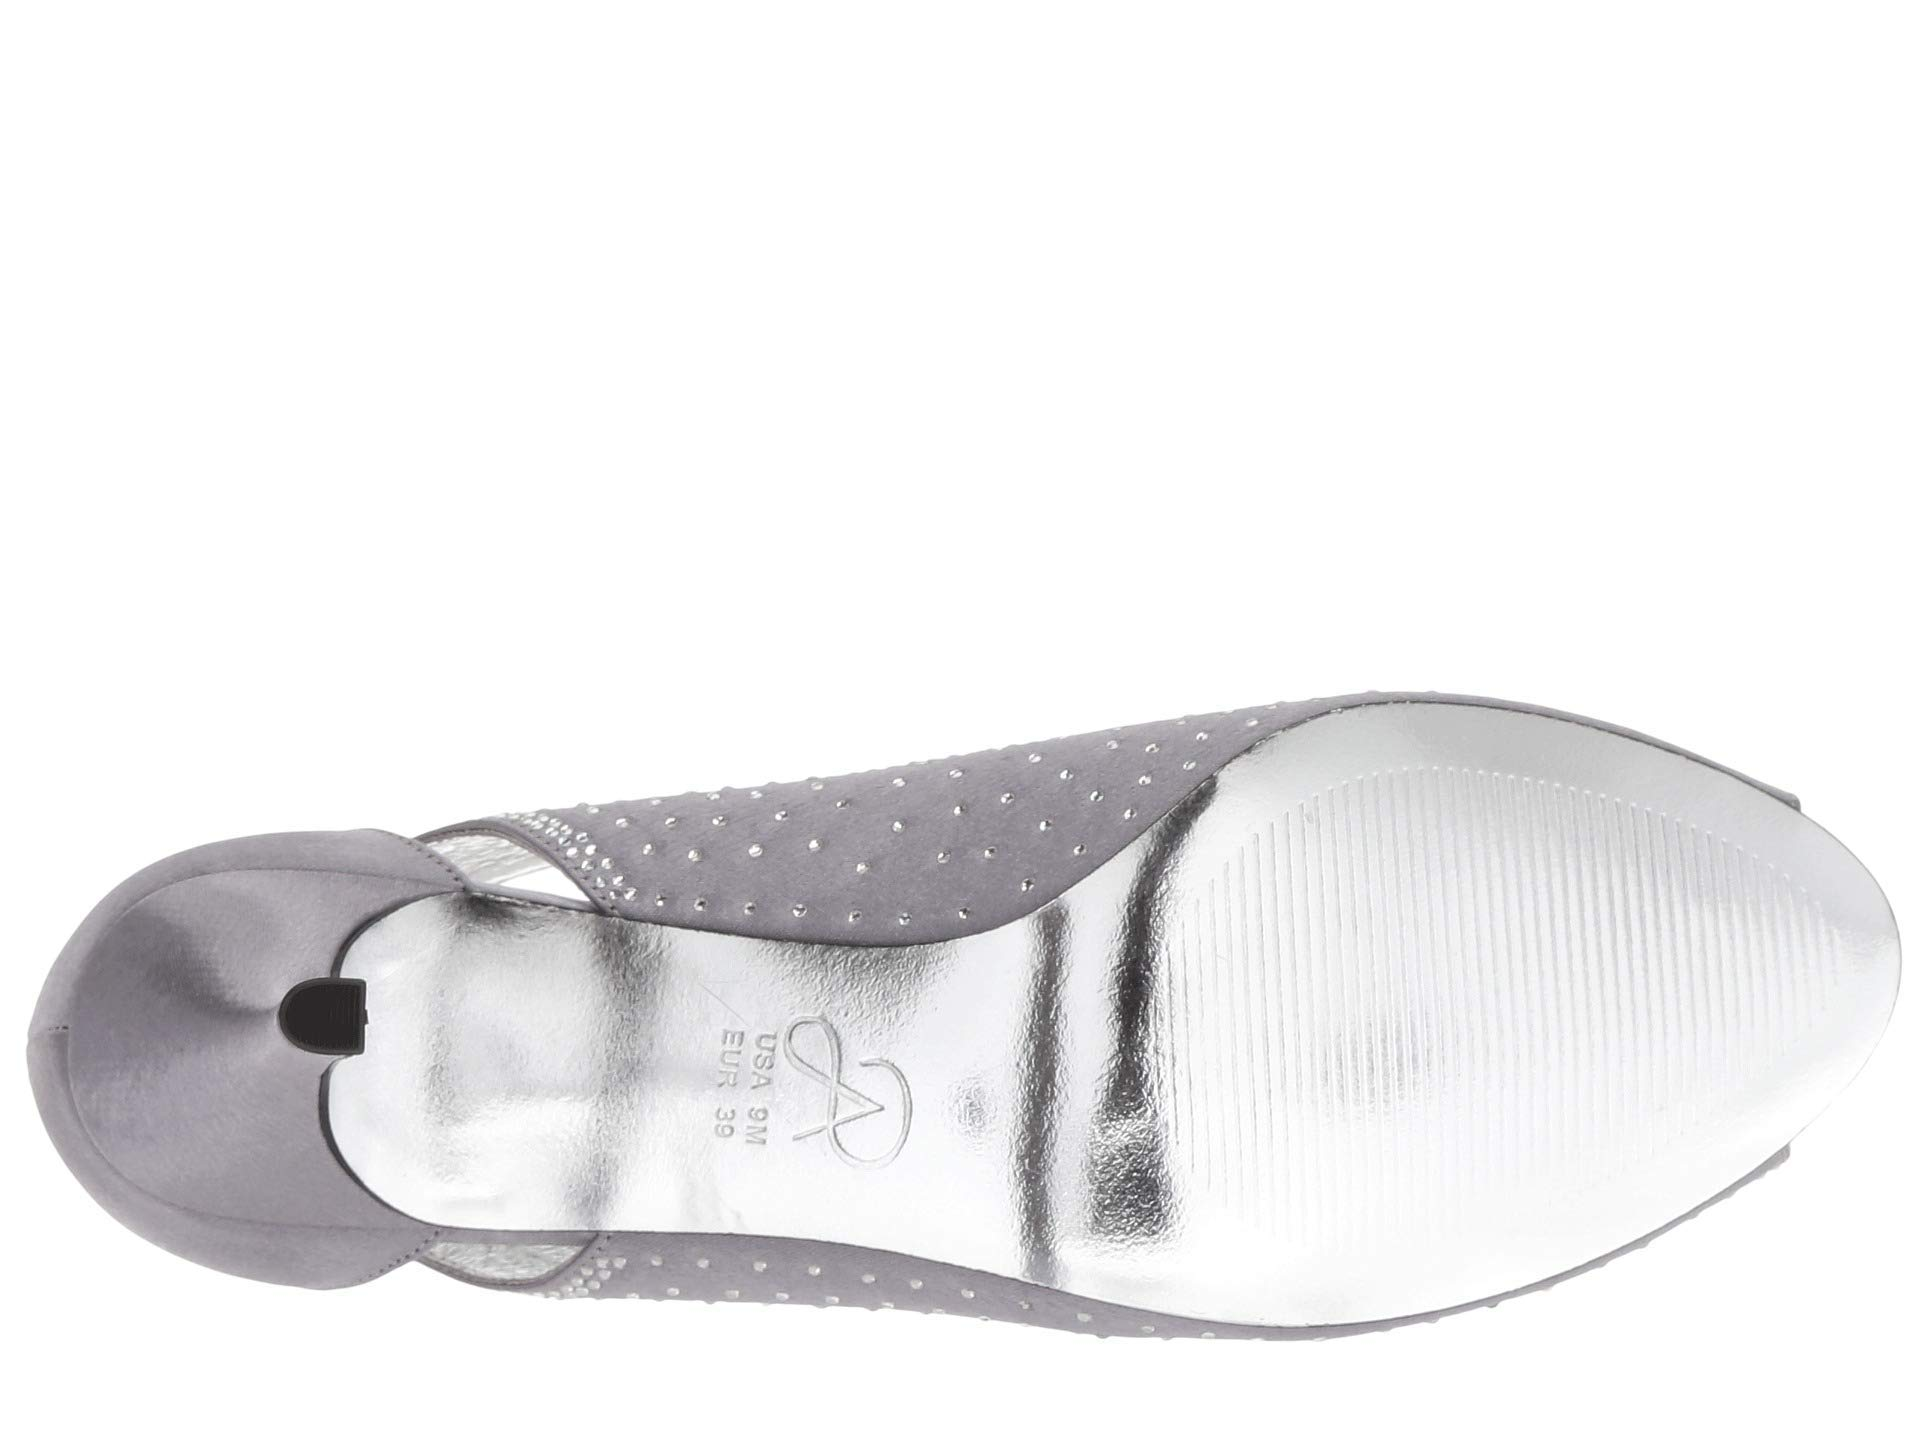exclude: (399, 902, 1067, 1274)
line: (1220, 771, 1717, 1209)
